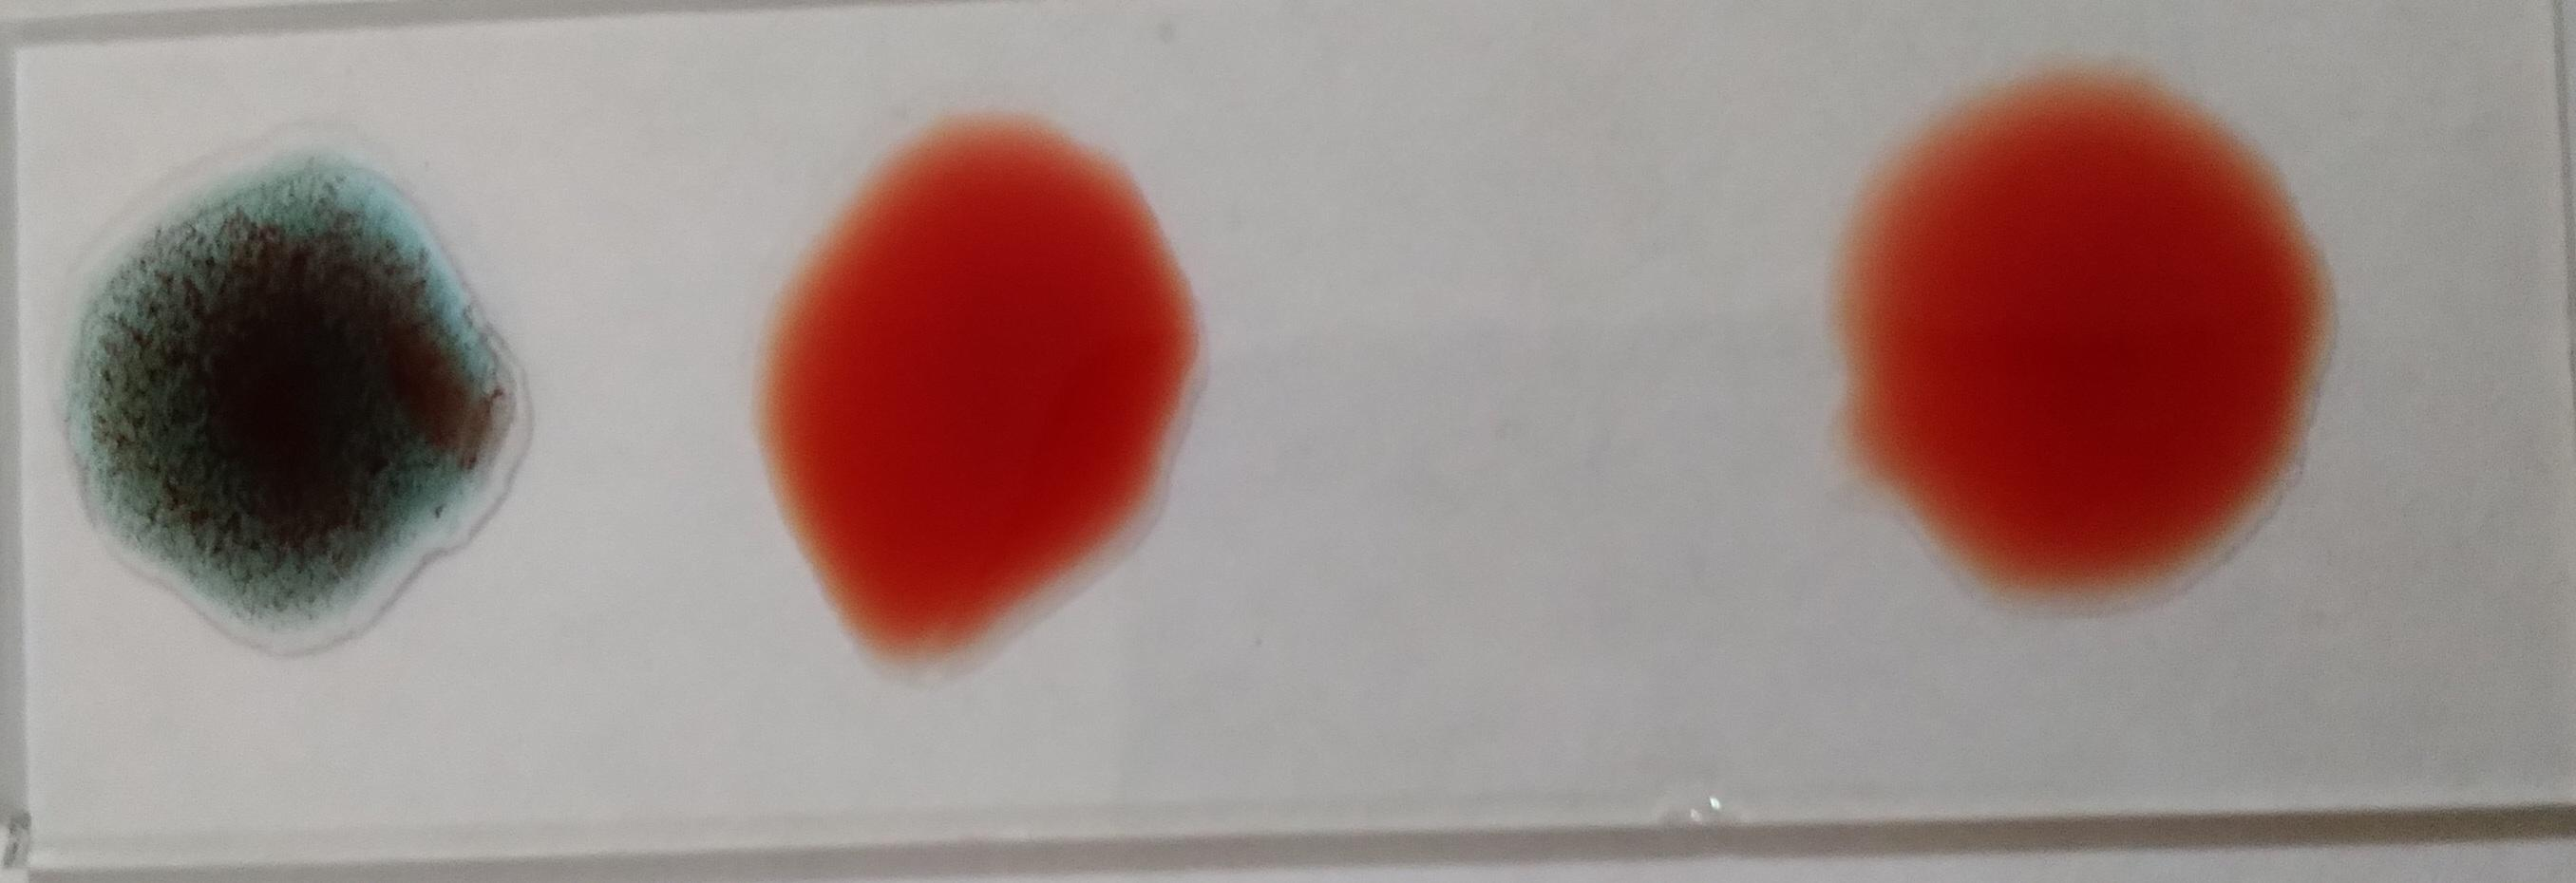A: (51, 174, 513, 653)
